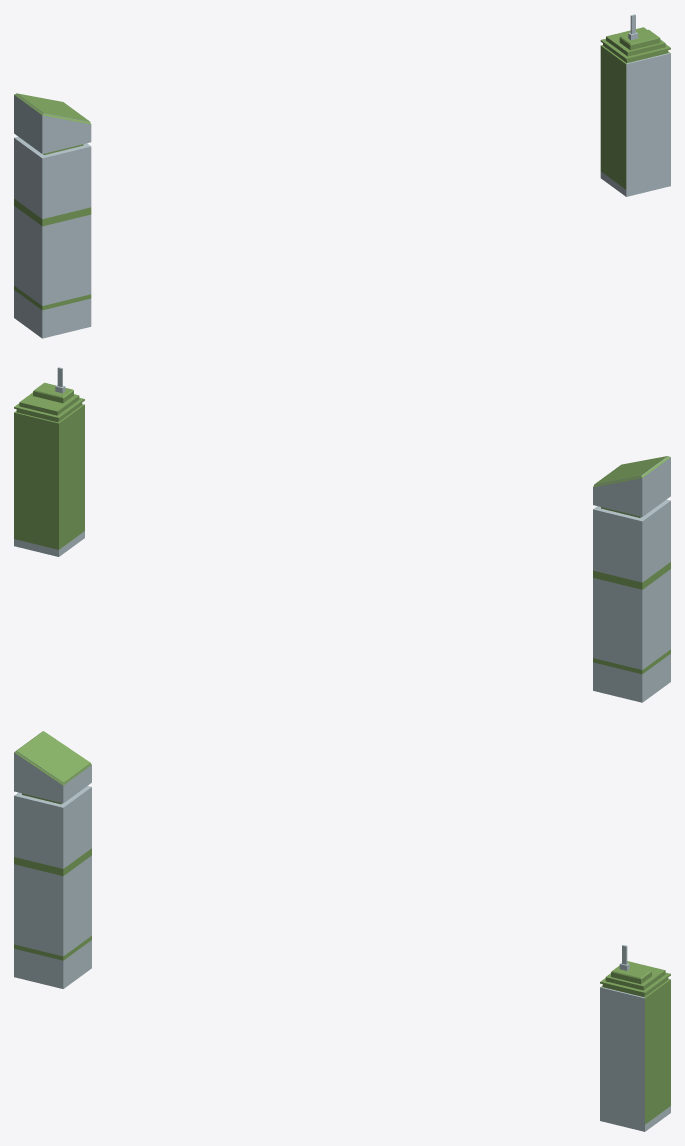
The model's file is BuildingsP2.fbx.
The picture shows the model from 3 angles, top to bottom: view 1: azimuth 30°, elevation 25°; view 2: azimuth 150°, elevation 25°; view 3: azimuth 330°, elevation 25°; orthographic projection.
Visible parts, largest first — view 1: Highrise_16, Highrise_1; view 2: Highrise_16, Highrise_1; view 3: Highrise_16, Highrise_1.
Boxes of the visible parts, x1=… form: Highrise_16: x1=14, y1=93, x2=91, y2=338; Highrise_1: x1=600, y1=14, x2=670, y2=196; Highrise_16: x1=593, y1=456, x2=670, y2=702; Highrise_1: x1=14, y1=367, x2=84, y2=556; Highrise_16: x1=14, y1=731, x2=91, y2=988; Highrise_1: x1=600, y1=945, x2=670, y2=1131.
Bounding box in the file's own units: 19.18 × 6.56 × 1.54.
